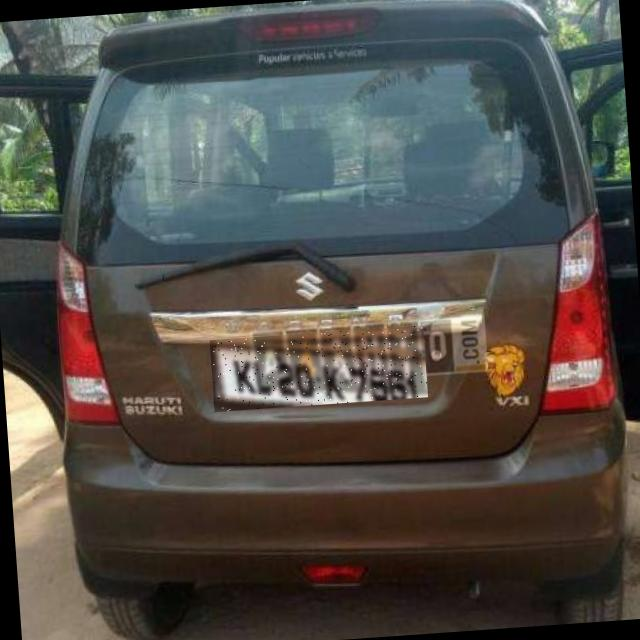Plate: (211, 326, 429, 413)
